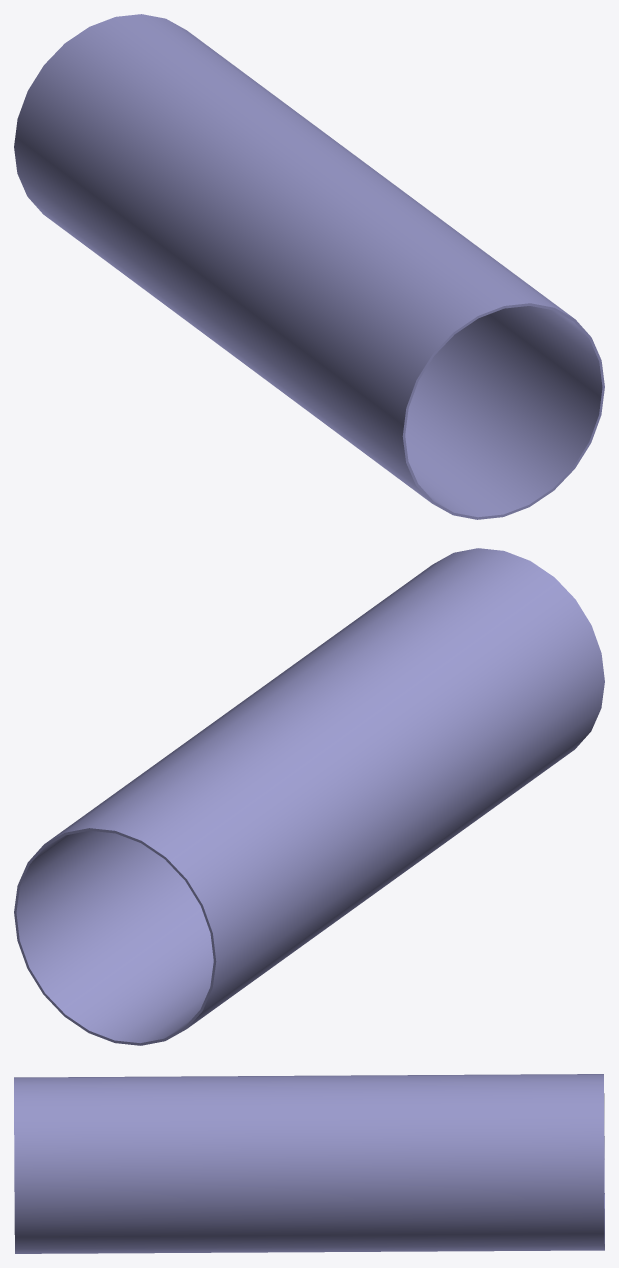
The model's file is EDCGDCBPipe2Pipe.gltf.
3 views of the same model, one above another, from view 1: azimuth 30°, elevation 25°; view 2: azimuth 150°, elevation 25°; view 3: azimuth 270°, elevation 25° (orthographic). The views are drawn at different scales.
Parts seen in each view (by area): view 1: logicEDCGDCBPipe2Pipe_pv0x22404d0; view 2: logicEDCGDCBPipe2Pipe_pv0x22404d0; view 3: logicEDCGDCBPipe2Pipe_pv0x22404d0.
Boxes of the visible parts, left/top/right/bottom form: logicEDCGDCBPipe2Pipe_pv0x22404d0: left=14, top=14, right=604, bottom=519; logicEDCGDCBPipe2Pipe_pv0x22404d0: left=14, top=548, right=604, bottom=1045; logicEDCGDCBPipe2Pipe_pv0x22404d0: left=14, top=1074, right=604, bottom=1253.
Bounding box in the file's own units: 39.05 × 39.89 × 130.
